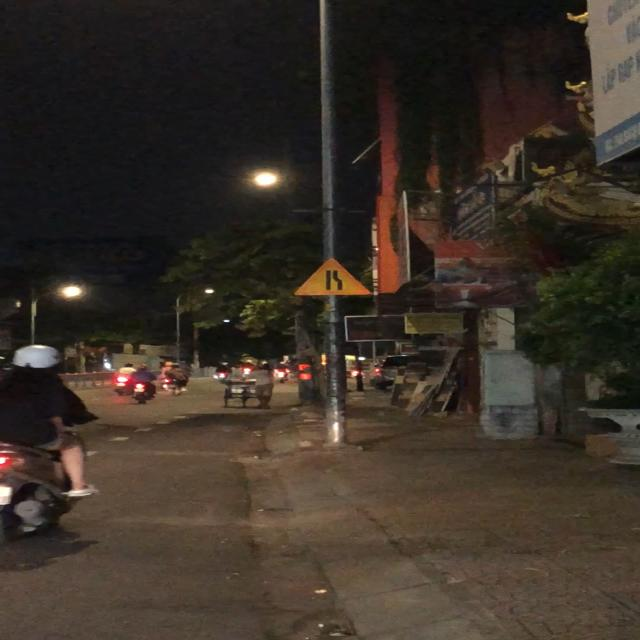Bien bao duong bi thu hep: (291, 256, 374, 297)
